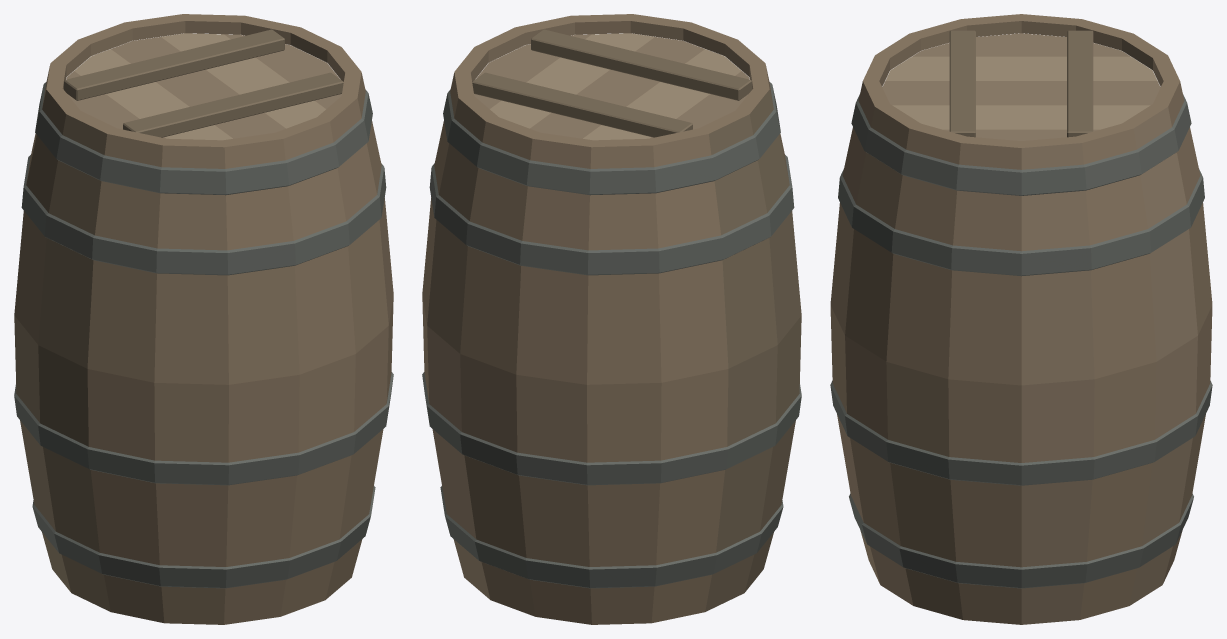
File: env_barrel_v09_cleated_lid.glb
3 renders of one model, left to right at view 1: azimuth 30°, elevation 25°; view 2: azimuth 150°, elevation 25°; view 3: azimuth 270°, elevation 25°, orthographic.
Visible parts, largest first — view 1: material_0, material_2, material_3, material_5, material_4; view 2: material_0, material_2, material_3, material_5, material_4; view 3: material_0, material_5, material_3, material_4, material_2.
Boxes of the visible parts, <box> form: material_0: <box>26,14,393,624</box>; material_2: <box>14,29,343,611</box>; material_3: <box>14,82,393,588</box>; material_5: <box>66,34,341,138</box>; material_4: <box>74,33,325,140</box>; material_0: <box>422,14,789,624</box>; material_2: <box>472,29,801,611</box>; material_3: <box>422,82,801,588</box>; material_5: <box>427,34,749,599</box>; material_4: <box>490,33,741,140</box>; material_0: <box>830,14,1212,624</box>; material_5: <box>882,33,1197,624</box>; material_3: <box>830,94,1212,588</box>; material_4: <box>885,56,1157,129</box>; material_2: <box>949,30,1093,137</box>.
Bounding box in the file's own units: 0.6505 × 0.9 × 0.6505.
